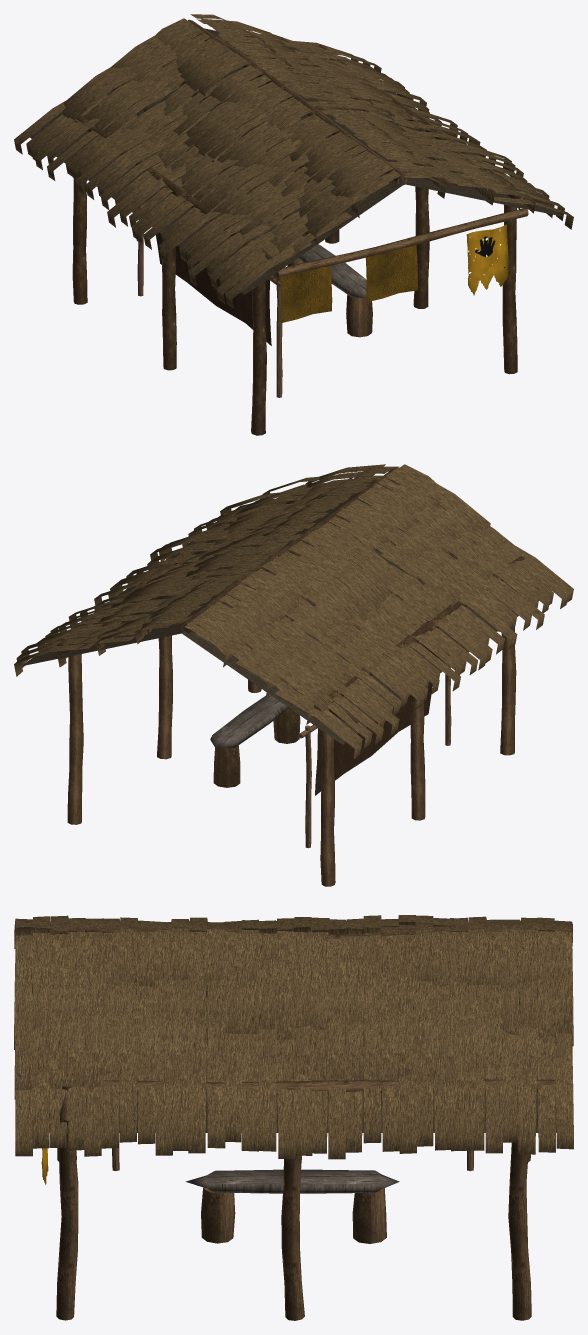
The model's file is SM_Bld_Player_Canopy.gltf.
The picture shows the model from 3 angles, top to bottom: view 1: azimuth 30°, elevation 25°; view 2: azimuth 150°, elevation 25°; view 3: azimuth 270°, elevation 25°; orthographic projection. The views are drawn at different scales.
Parts seen in each view (by area): view 1: SM_Bld_Player_Canopy; view 2: SM_Bld_Player_Canopy; view 3: SM_Bld_Player_Canopy.
Part boxes in pixels (x1,y1,x2,y2): SM_Bld_Player_Canopy: (14,14,573,435); SM_Bld_Player_Canopy: (14,464,573,886); SM_Bld_Player_Canopy: (14,915,573,1320).
Size of the model in its own units: 6.16 by 4.1 by 6.64.
Materials: 9 (9 with a texture image).
